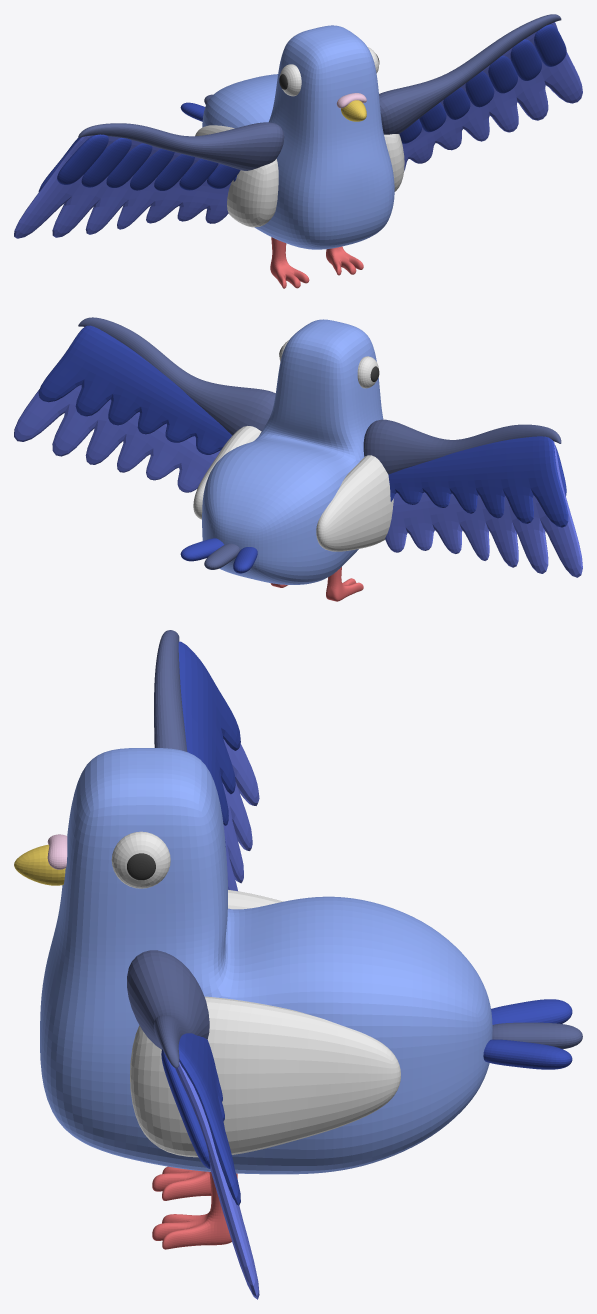
File: pigeonsopenwingcolor.fbx
3 views of the same model, one above another, from view 1: azimuth 30°, elevation 25°; view 2: azimuth 150°, elevation 25°; view 3: azimuth 270°, elevation 25° (orthographic). The views are drawn at different scales.
Visible parts, largest first — view 1: Body, Cube.003, Cube.023, Cube.004, wing, feet, eyeball, Beak; view 2: Body, Cube.005, Cube.003, Cube.004, wing, Cube.001, feet, Cube, eyeball; view 3: Body, wing, Cube.004, Cube.005, Cube.003, feet, Cube.001, eyeball, Cube, Cube.023, Beak.
Boxes of the visible parts, x1,y1,x2,y2 form: Body: (202,25,394,249); Cube.003: (14,22,582,238); Cube.023: (57,24,566,190); Cube.004: (78,14,561,170); wing: (195,125,404,227); feet: (270,237,363,288); eyeball: (280,47,378,96); Beak: (341,100,366,121); Body: (202,319,383,584); Cube.005: (38,325,568,527); Cube.003: (14,385,582,577); Cube.004: (78,317,561,474); wing: (193,426,393,551); Cube.001: (180,538,257,573); feet: (270,567,363,601); Cube: (204,543,240,569); eyeball: (279,340,378,388); Body: (40,748,492,1174); wing: (130,890,400,1157); Cube.004: (127,630,209,1067); Cube.005: (178,641,240,1205); Cube.003: (175,739,259,1299); feet: (152,1166,237,1249); Cube.001: (483,999,572,1069); eyeball: (111,831,170,888); Cube: (492,1022,582,1048); Cube.023: (161,1049,210,1168); Beak: (14,844,65,885).
Size of the model in its own units: 4936 by 2071 by 2346.
